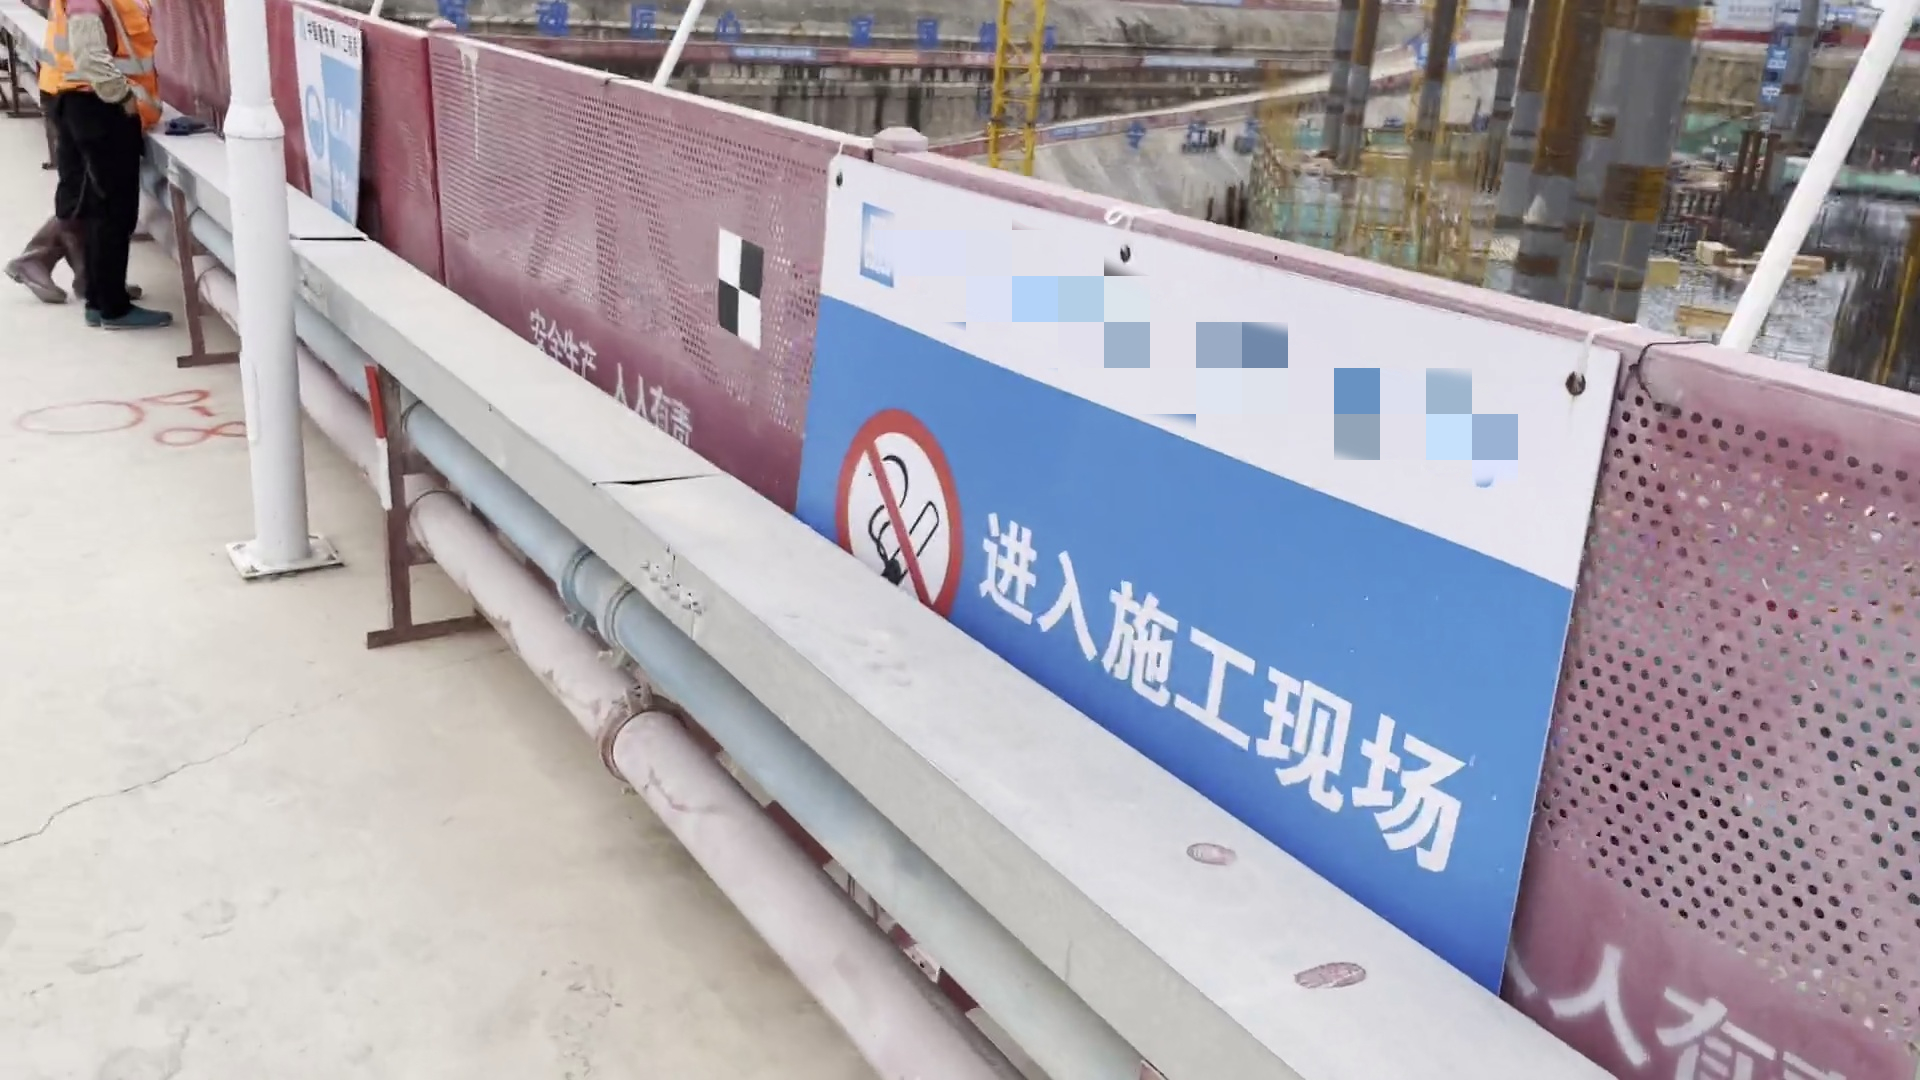fence: (1341, 280, 1920, 1080), (862, 146, 1356, 816), (464, 32, 884, 564), (157, 4, 473, 305)
slogan: (773, 115, 1623, 1009), (276, 4, 417, 243), (961, 45, 1062, 78), (727, 38, 819, 65), (851, 47, 934, 76)
vest: (51, 1, 175, 123), (20, 5, 80, 107)
wood: (1676, 301, 1738, 334), (1696, 237, 1741, 268)
